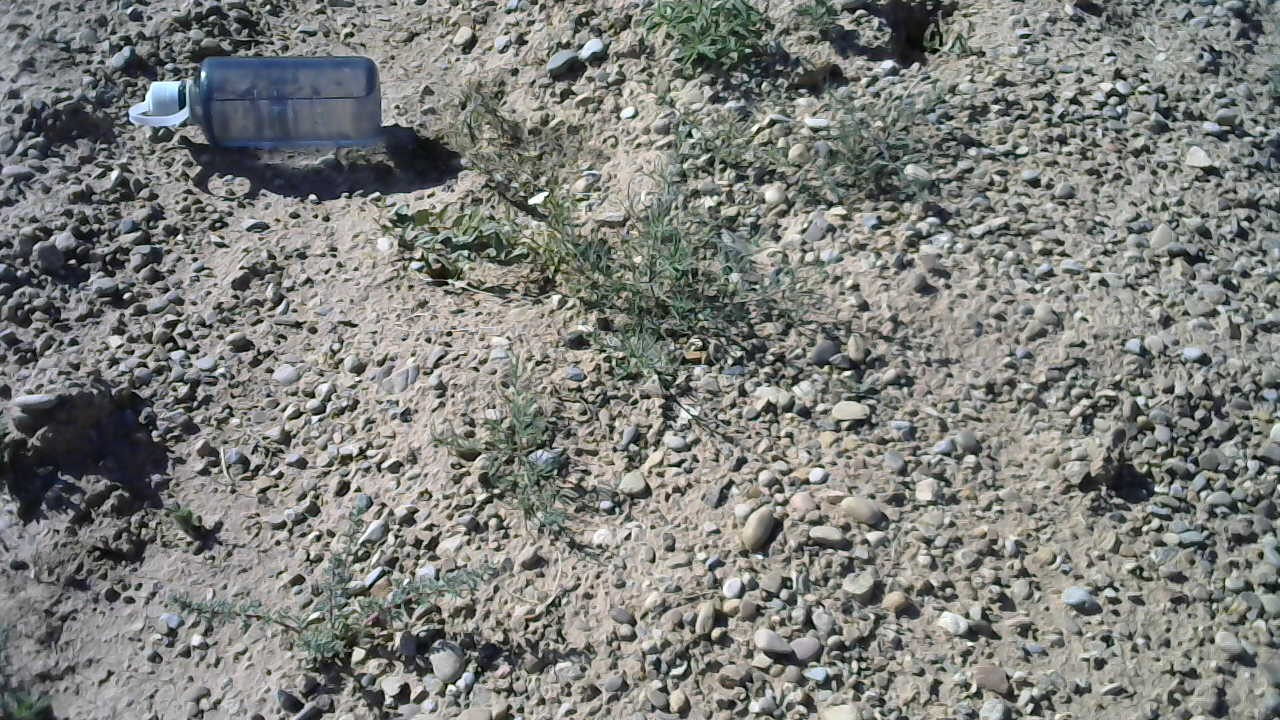bottle: (123, 48, 391, 147)
